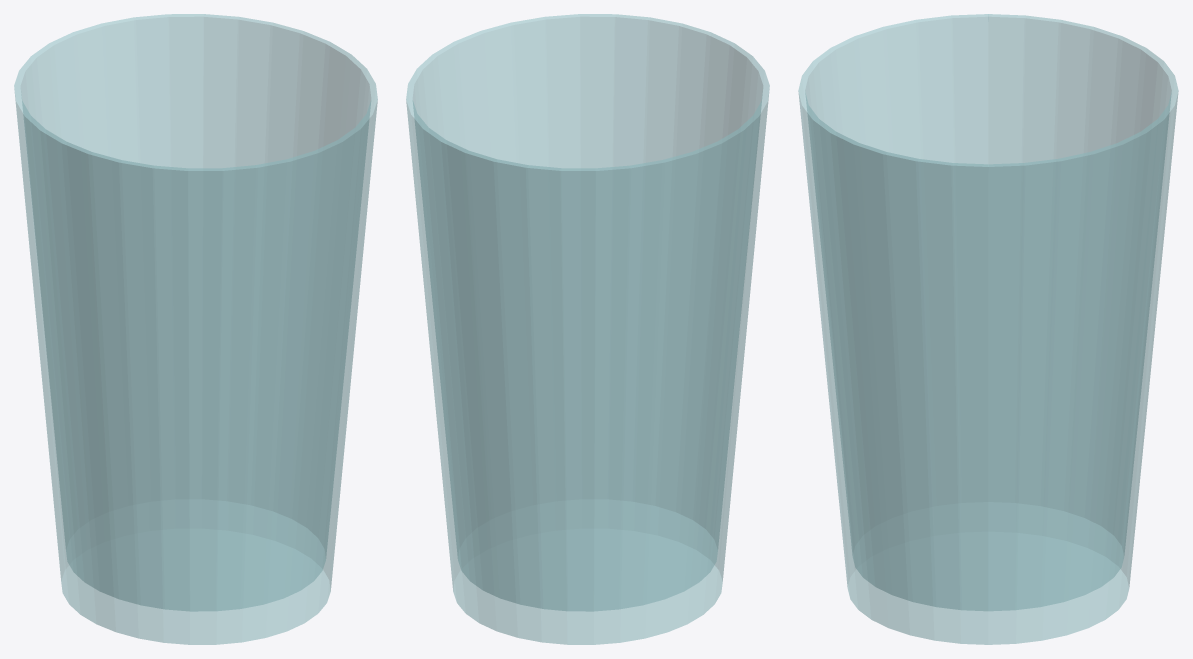
Rendered from cup.glb.
The picture shows the model from 3 angles, left to right: view 1: azimuth 30°, elevation 25°; view 2: azimuth 150°, elevation 25°; view 3: azimuth 270°, elevation 25°; orthographic projection.
Visible parts, largest first — view 1: Cylinder.006; view 2: Cylinder.006; view 3: Cylinder.006.
Part boxes in pixels (box(x1,y1,x2,y2)): Cylinder.006: box(14, 14, 377, 644); Cylinder.006: box(406, 14, 769, 644); Cylinder.006: box(798, 14, 1178, 644).
Bounding box in the file's own units: 0.1268 × 0.1923 × 0.1332.
